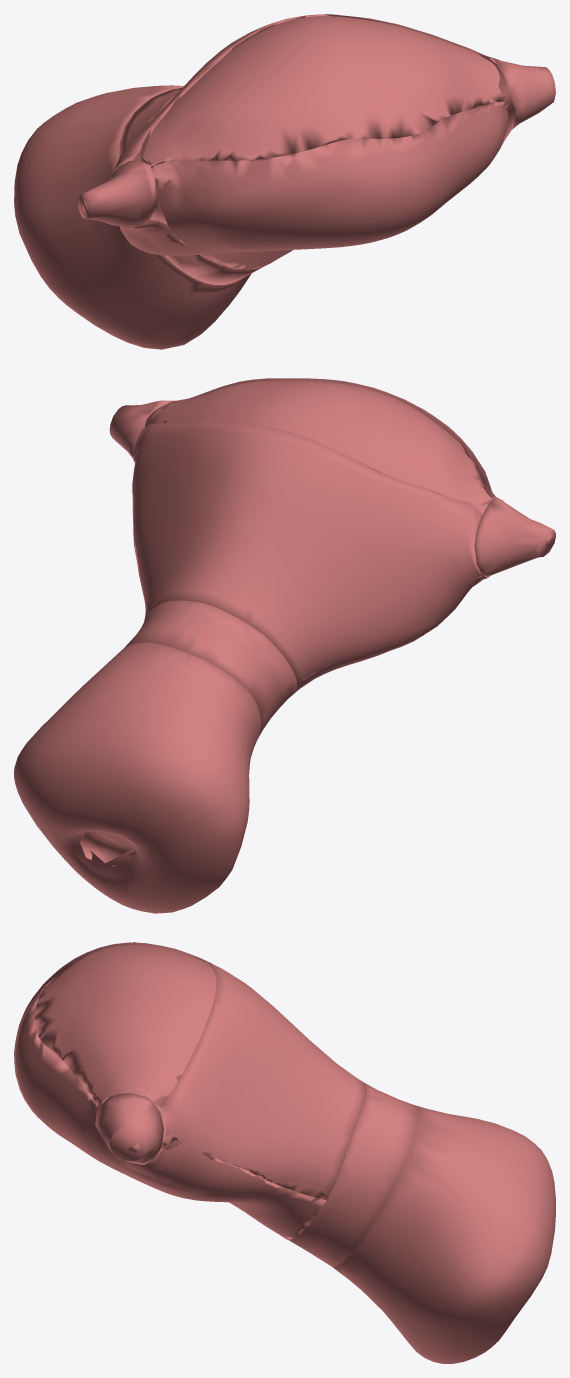
File: vh_f_uterus-40.glb
3 renders of one model, top to bottom at view 1: azimuth 30°, elevation 25°; view 2: azimuth 150°, elevation 25°; view 3: azimuth 270°, elevation 25°, orthographic. The views are drawn at different scales.
Parts seen in each view (by area): view 1: VH_F_anterior_wall_of_uterus, VH_F_posterior_wall_of_uterus, VH_F_cervix, VH_F_cornua, VH_F_body_of_uterus, VH_F_lower_uterine_segment, VH_F_fundus_of_uterus; view 2: VH_F_body_of_uterus, VH_F_cervix, VH_F_anterior_wall_of_uterus, VH_F_lower_uterine_segment, VH_F_cornua, VH_F_fundus_of_uterus, VH_F_external_cervical_os; view 3: VH_F_cervix, VH_F_body_of_uterus, VH_F_anterior_wall_of_uterus, VH_F_posterior_wall_of_uterus, VH_F_lower_uterine_segment, VH_F_cornua, VH_F_fundus_of_uterus.
Boxes of the visible parts, left/top/right/bottom form: VH_F_anterior_wall_of_uterus: left=132, top=16, right=508, bottom=166; VH_F_posterior_wall_of_uterus: left=140, top=101, right=508, bottom=269; VH_F_cervix: left=14, top=85, right=251, bottom=349; VH_F_cornua: left=78, top=58, right=555, bottom=227; VH_F_body_of_uterus: left=110, top=15, right=511, bottom=268; VH_F_lower_uterine_segment: left=119, top=87, right=263, bottom=285; VH_F_fundus_of_uterus: left=140, top=14, right=516, bottom=245; VH_F_body_of_uterus: left=132, top=421, right=486, bottom=696; VH_F_cervix: left=14, top=642, right=261, bottom=913; VH_F_anterior_wall_of_uterus: left=132, top=380, right=492, bottom=679; VH_F_lower_uterine_segment: left=123, top=600, right=297, bottom=738; VH_F_cornua: left=109, top=400, right=555, bottom=577; VH_F_fundus_of_uterus: left=144, top=378, right=495, bottom=505; VH_F_external_cervical_os: left=79, top=831, right=135, bottom=866; VH_F_cervix: left=333, top=1105, right=555, bottom=1363; VH_F_body_of_uterus: left=114, top=960, right=366, bottom=1216; VH_F_anterior_wall_of_uterus: left=34, top=945, right=348, bottom=1200; VH_F_posterior_wall_of_uterus: left=15, top=984, right=326, bottom=1239; VH_F_lower_uterine_segment: left=289, top=1083, right=419, bottom=1267; VH_F_cornua: left=95, top=942, right=163, bottom=1164; VH_F_fundus_of_uterus: left=14, top=942, right=217, bottom=1159.
Bounding box in the file's own units: 0.0525 × 0.047 × 0.0587.
